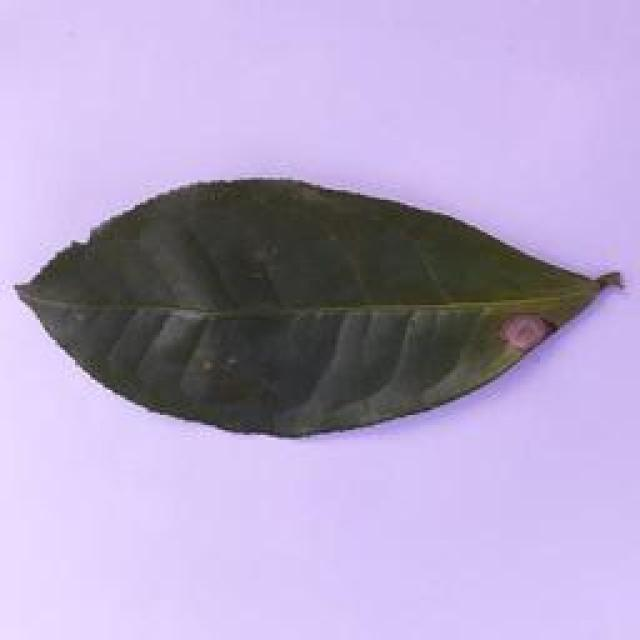Gray Blight: (8, 178, 627, 444)
